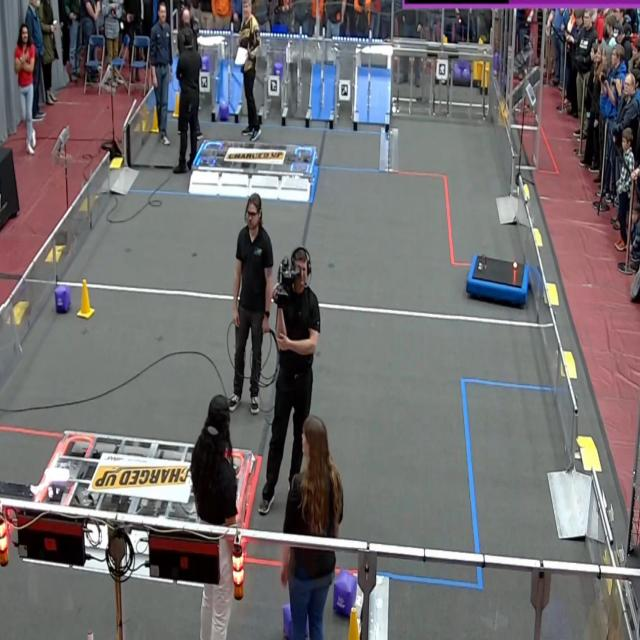frc_cone: (75, 280, 94, 320), (346, 607, 365, 640), (172, 96, 182, 120), (151, 107, 158, 134), (482, 69, 489, 90), (477, 58, 483, 76), (474, 61, 479, 78)
frc_cube: (332, 569, 360, 613), (54, 284, 72, 313), (461, 69, 472, 88), (199, 52, 211, 69), (219, 102, 229, 121), (453, 68, 462, 84), (274, 63, 281, 79), (457, 55, 465, 66)
